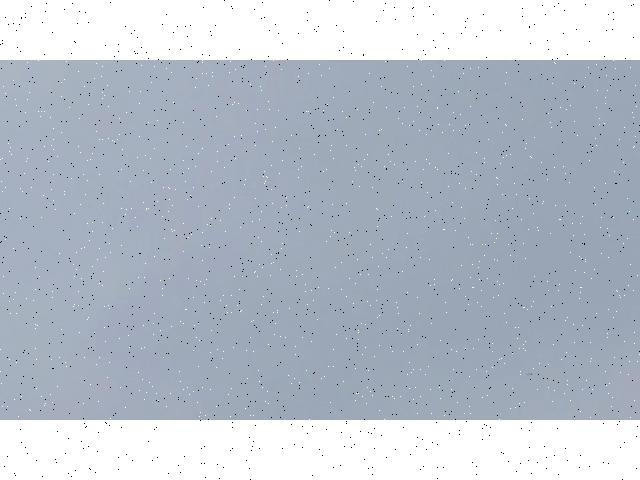Anti-Drone: (525, 371, 535, 377)
